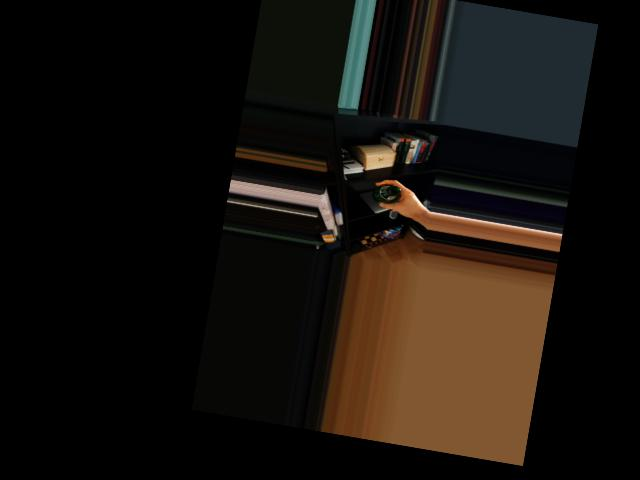beer: (371, 182, 402, 206)
